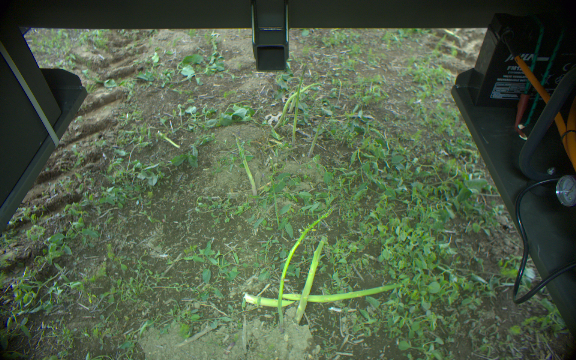aspa: (275, 203, 337, 319), (295, 235, 328, 322), (270, 81, 322, 131), (233, 134, 257, 197), (290, 65, 308, 141), (307, 115, 326, 157)
